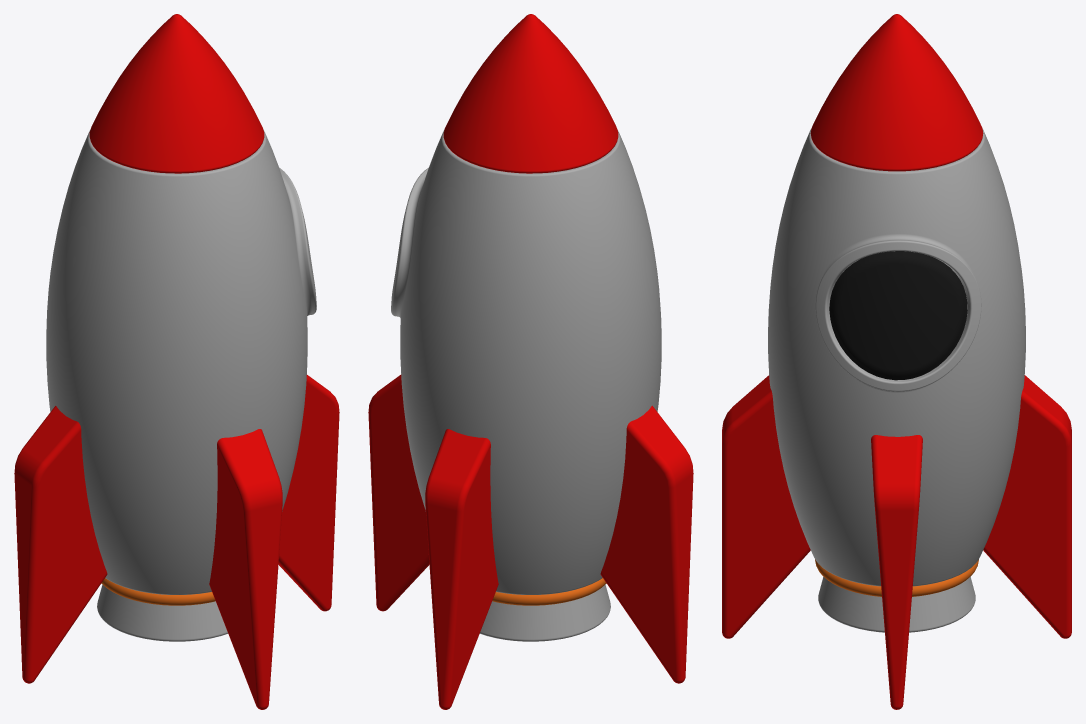
3 renders of one model, left to right at view 1: azimuth 30°, elevation 25°; view 2: azimuth 150°, elevation 25°; view 3: azimuth 270°, elevation 25°, orthographic.
Visible parts, largest first — view 1: Revolved.002, Solid 60, Extruded.002, Solid 61, Solid.001, Solid 68, Cylinder.001; view 2: Revolved.002, Solid 60, Extruded.002, Extruded.001, Solid.001, Solid 68, Cylinder.001; view 3: Revolved.002, Solid 60, Solid 61, Extruded.001, Lofted.001, Solid.001, Solid 68, Cylinder.001.
Boxes of the visible parts, x1,y1,x2,y2 form: Revolved.002: [46, 129, 316, 594]; Solid 60: [89, 14, 264, 173]; Extruded.002: [14, 406, 107, 683]; Solid 61: [209, 429, 282, 709]; Solid.001: [278, 375, 339, 611]; Solid 68: [97, 584, 227, 641]; Cylinder.001: [101, 578, 215, 605]; Revolved.002: [391, 130, 661, 594]; Solid 60: [443, 14, 618, 173]; Extruded.002: [600, 405, 693, 683]; Extruded.001: [425, 429, 498, 709]; Solid.001: [368, 374, 429, 611]; Solid 68: [480, 584, 610, 641]; Cylinder.001: [492, 578, 606, 605]; Revolved.002: [768, 128, 1025, 586]; Solid 60: [810, 14, 983, 171]; Solid 61: [722, 375, 810, 638]; Extruded.001: [983, 375, 1071, 638]; Lofted.001: [829, 251, 967, 380]; Solid.001: [871, 435, 922, 709]; Solid 68: [818, 577, 975, 632]; Cylinder.001: [815, 559, 978, 596].
Bounding box in the file's own units: 2.39 × 4.69 × 2.39.
Materials: 1 (1 with a texture image).
